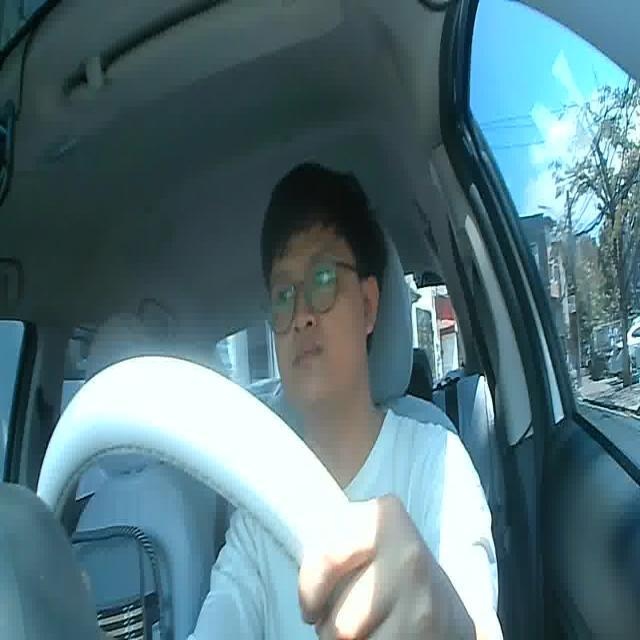Attentive: (262, 156, 389, 414)
Eye-Open: (307, 265, 339, 292), (270, 284, 302, 310)
Normal: (292, 342, 327, 369)
